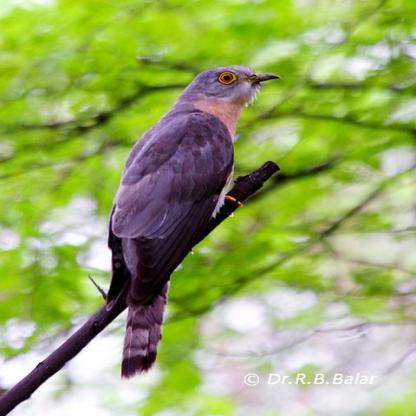Burung: (107, 64, 281, 378)
